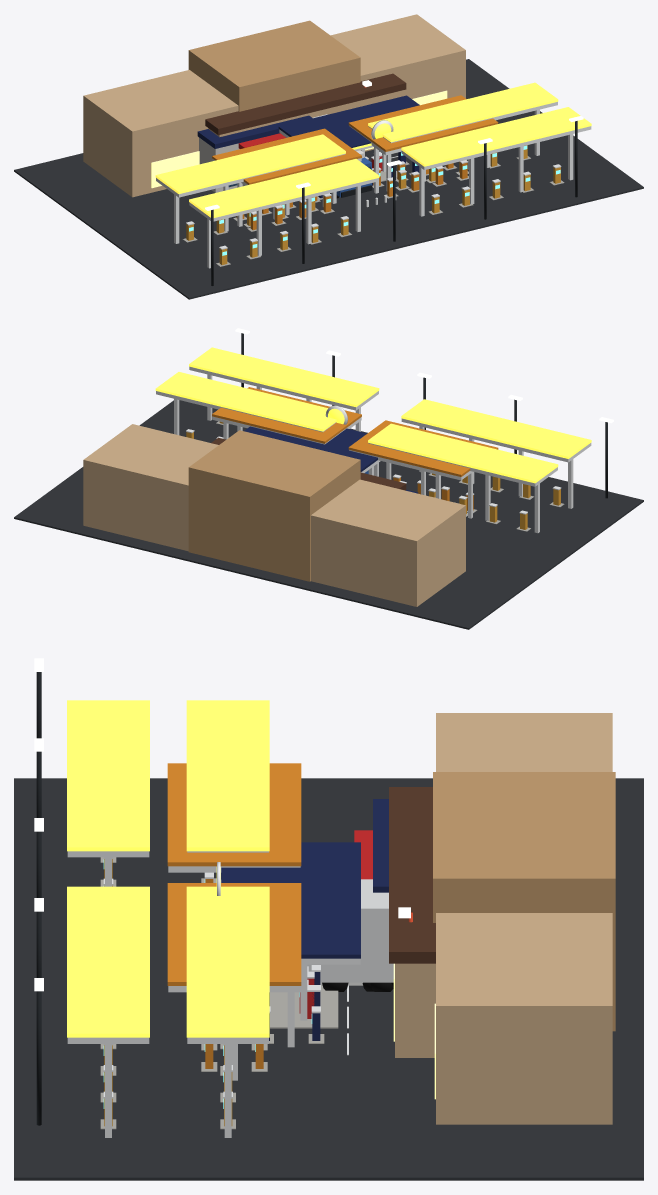
File: roadkit.glb
3 renders of one model, top to bottom at view 1: azimuth 30°, elevation 25°; view 2: azimuth 150°, elevation 25°; view 3: azimuth 270°, elevation 25°, orthographic. The views are drawn at different scales.
Parts seen in each view (by area): view 1: gas5, gas4, gas3, gas2, gas1; view 2: gas5, gas4, gas3; view 3: gas5, gas4, gas3, truck, gas2.
Boxes of the visible parts, x1=… form: gas5: x1=14, y1=14, x2=643, y2=299; gas4: x1=136, y1=73, x2=552, y2=262; gas3: x1=197, y1=95, x2=478, y2=236; gas2: x1=238, y1=133, x2=411, y2=222; gas1: x1=290, y1=80, x2=411, y2=216; gas5: x1=14, y1=328, x2=643, y2=629; gas4: x1=200, y1=387, x2=554, y2=570; gas3: x1=244, y1=405, x2=418, y2=493; gas5: x1=14, y1=658, x2=643, y2=1180; gas4: x1=112, y1=763, x2=435, y2=1124; gas3: x1=216, y1=799, x2=388, y2=1047; truck: x1=307, y1=879, x2=393, y2=991; gas2: x1=270, y1=830, x2=379, y2=1048.
Size of the model in its own units: 30 by 5.45 by 20.
